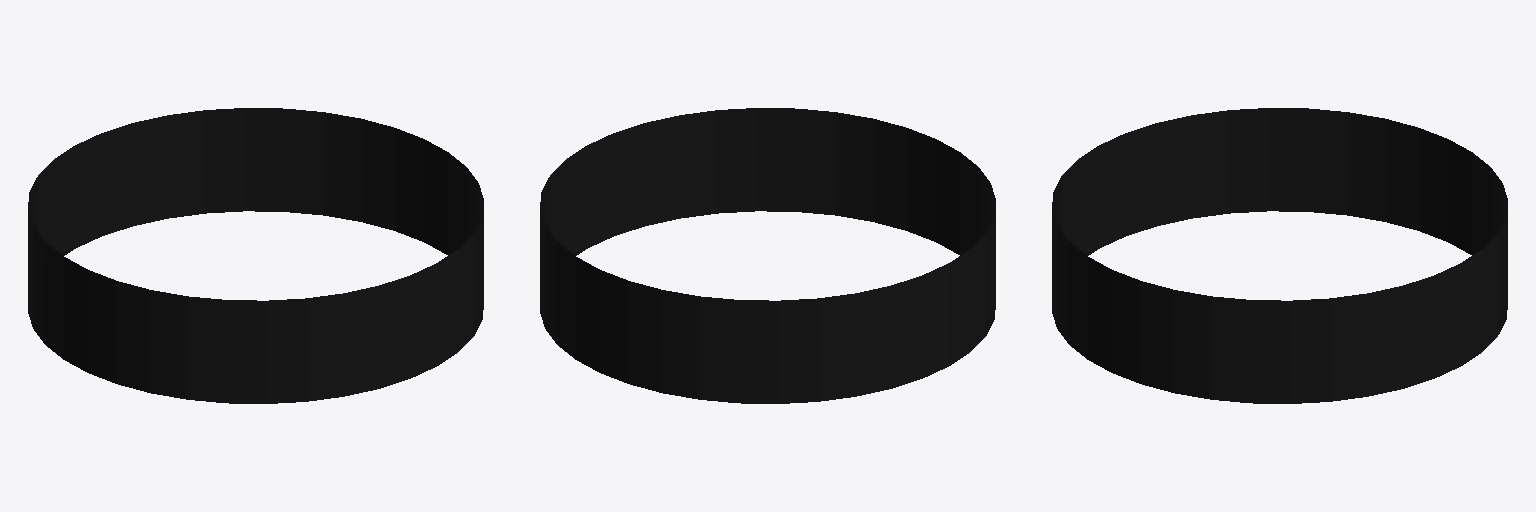
The model's file is original-6.obj.
3 renders of one model, left to right at view 1: azimuth 30°, elevation 25°; view 2: azimuth 150°, elevation 25°; view 3: azimuth 270°, elevation 25°, orthographic.
Visible parts, largest first — view 1: #ID25; view 2: #ID25; view 3: #ID25.
Boxes of the visible parts, <box> form: #ID25: <box>28,108,483,403</box>; #ID25: <box>540,108,995,403</box>; #ID25: <box>1052,108,1507,403</box>.
Bounding box in the file's own units: 0.0464 × 0.0116 × 0.0464.